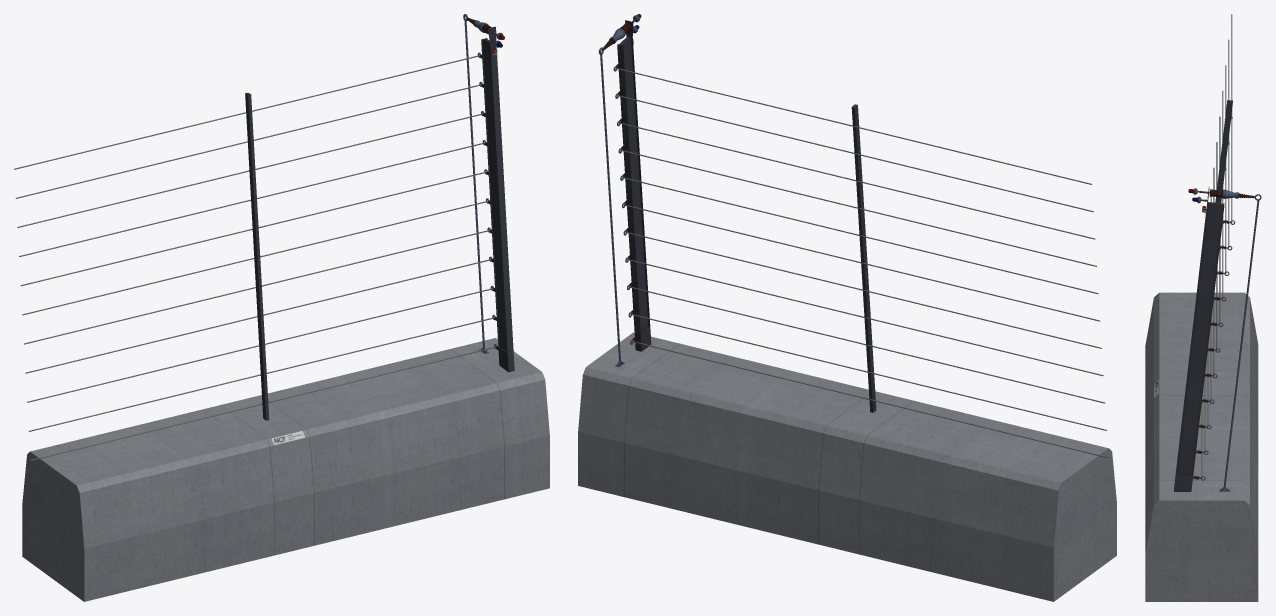
The model's file is small-fence.glb.
3 renders of one model, left to right at view 1: azimuth 30°, elevation 25°; view 2: azimuth 150°, elevation 25°; view 3: azimuth 270°, elevation 25°, orthographic. The views are drawn at different scales.
Visible parts, largest first — view 1: electric_fence_direct.002; view 2: electric_fence_direct.002; view 3: electric_fence_direct.002.
Boxes of the visible parts, <box> form: electric_fence_direct.002: <box>14,14,549,601</box>; electric_fence_direct.002: <box>578,14,1116,601</box>; electric_fence_direct.002: <box>1145,14,1261,601</box>.
Bounding box in the file's own units: 13.1 × 11.31 × 2.95.
1 material, 1 textured.
